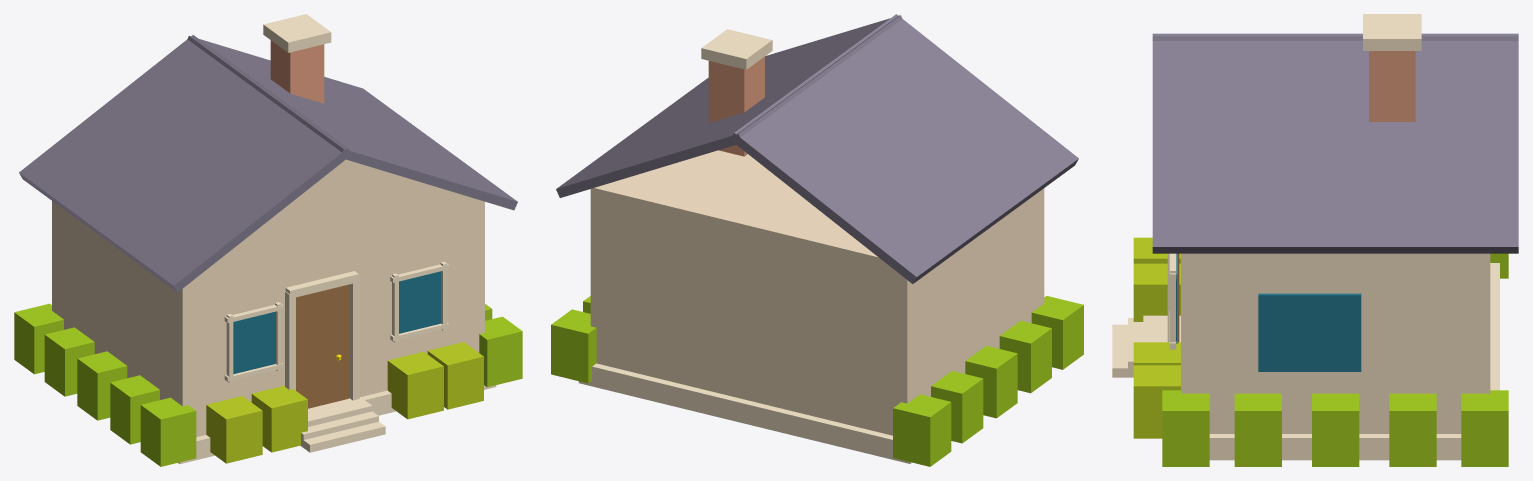
The model's file is House_Cream_Wide.glb.
The picture shows the model from 3 angles, left to right: view 1: azimuth 30°, elevation 25°; view 2: azimuth 150°, elevation 25°; view 3: azimuth 270°, elevation 25°; orthographic projection. The views are drawn at different scales.
Visible parts, largest first — view 1: House_Cream_Wide; view 2: House_Cream_Wide; view 3: House_Cream_Wide.
Boxes of the visible parts, x1=… form: House_Cream_Wide: x1=14, y1=14, x2=522, y2=466; House_Cream_Wide: x1=551, y1=14, x2=1083, y2=466; House_Cream_Wide: x1=1112, y1=14, x2=1518, y2=466.
Bounding box in the file's own units: 4.79 × 4.02 × 3.94.
